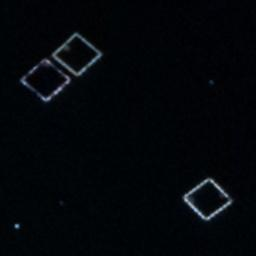square_solid: (179, 170, 235, 226), (18, 53, 77, 105), (50, 28, 106, 79)
